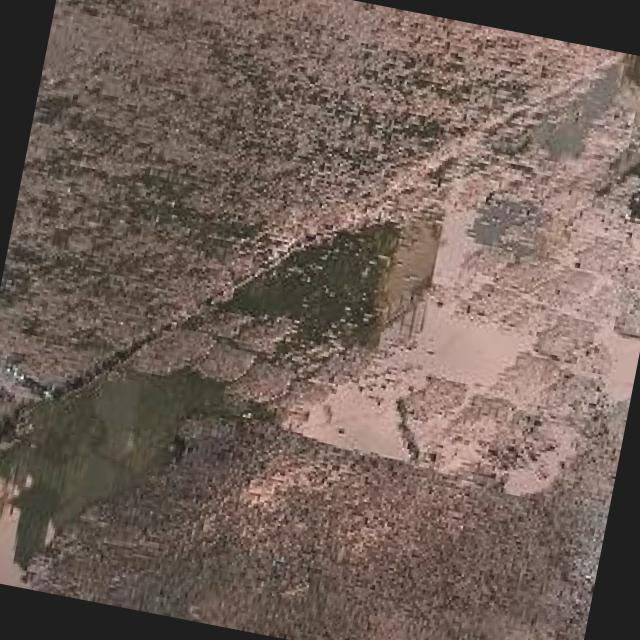waterlogging: (0, 319, 286, 629), (216, 176, 460, 377)
